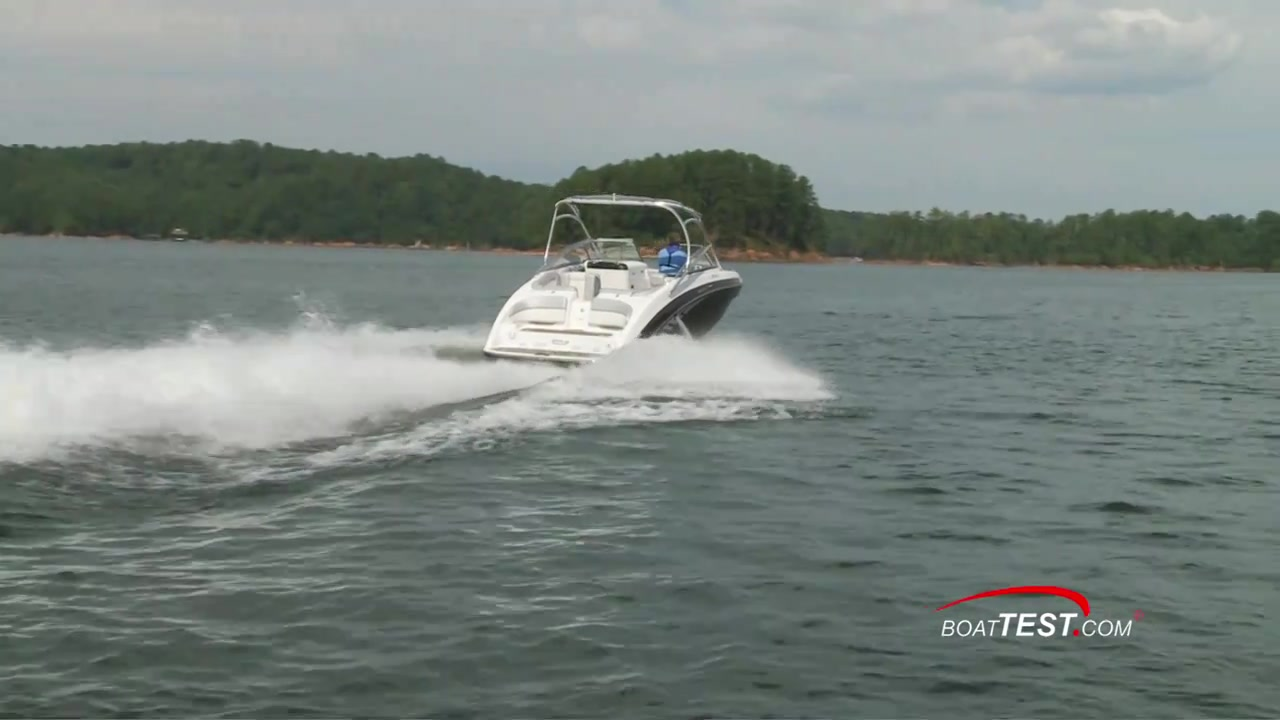boat: (474, 192, 748, 380)
